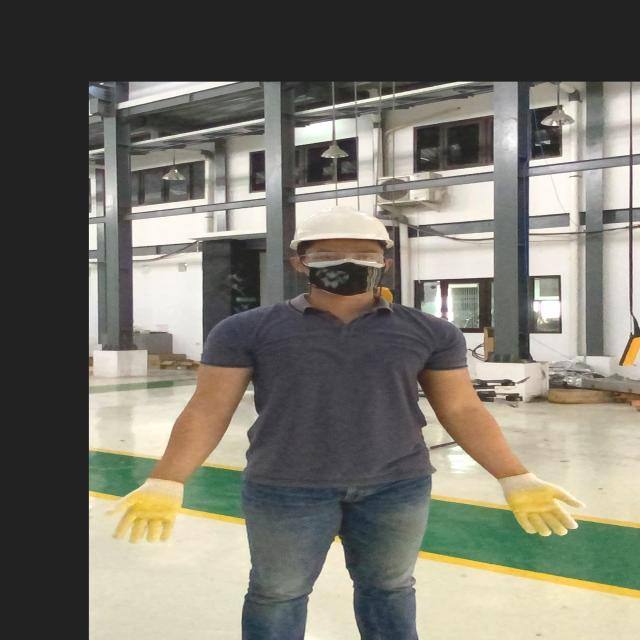face_mask: (297, 243, 391, 297)
glasses: (292, 247, 389, 266)
hand_glove: (487, 469, 588, 538), (98, 476, 192, 544)
head_helmet: (288, 205, 388, 245)
person: (120, 202, 595, 640)
